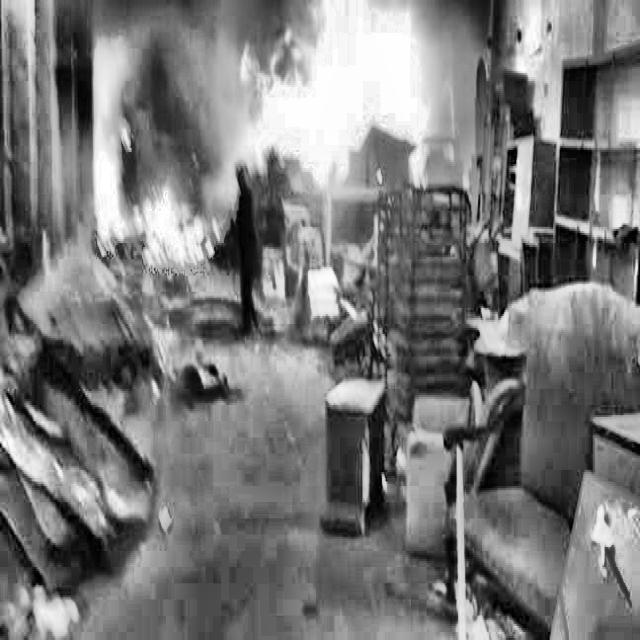fire: (68, 2, 478, 332)
